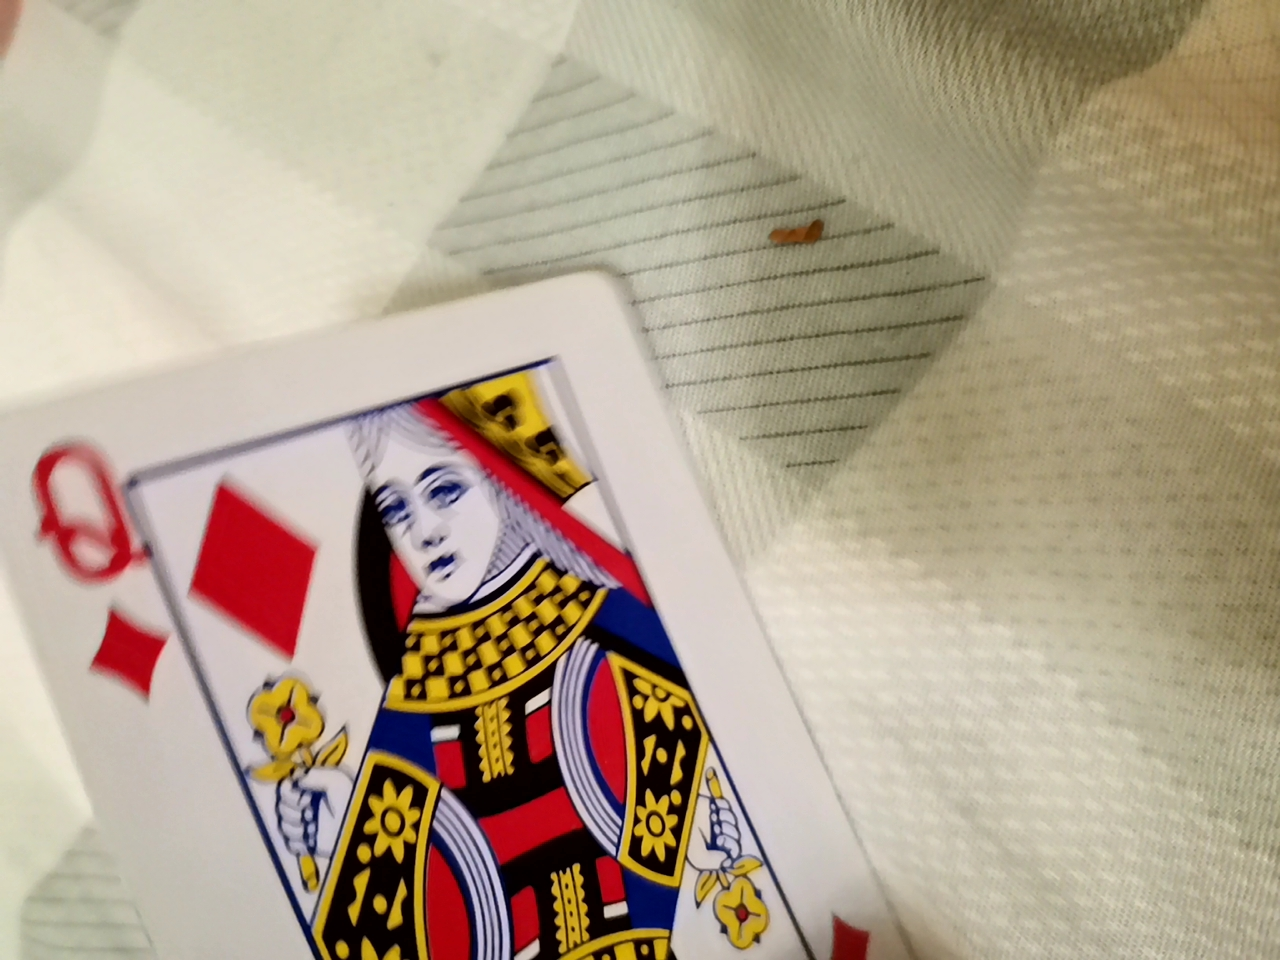fk q: (7, 254, 985, 957)
